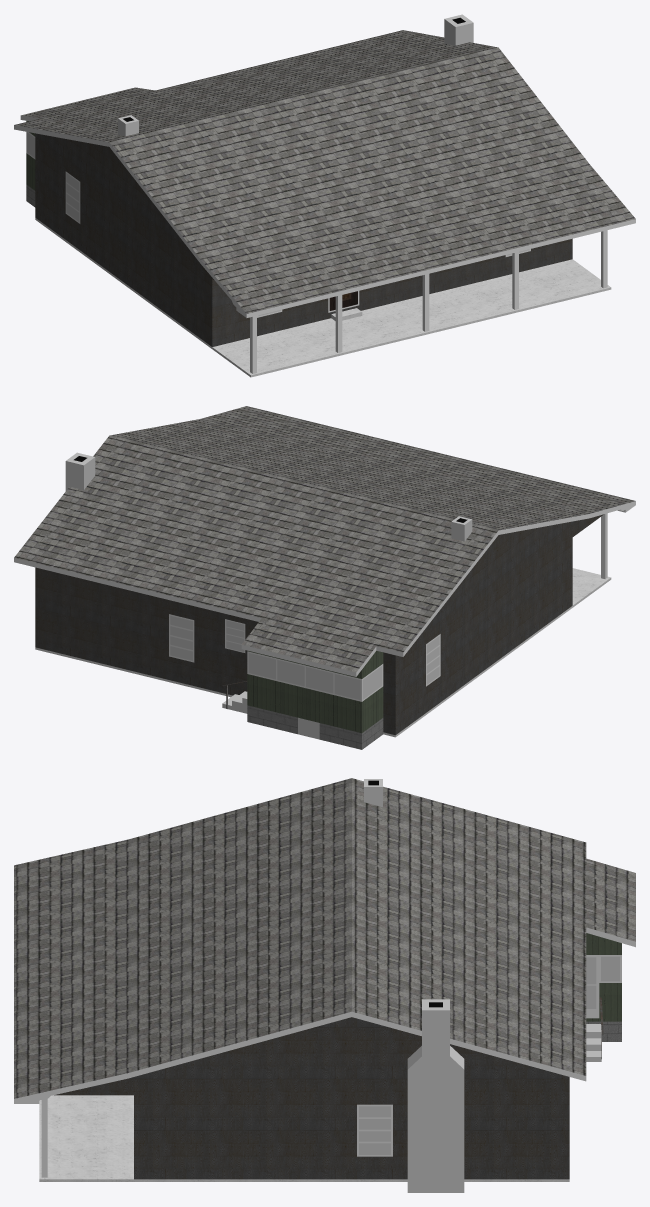
3 views of the same model, one above another, from view 1: azimuth 30°, elevation 25°; view 2: azimuth 150°, elevation 25°; view 3: azimuth 270°, elevation 25° (orthographic). The views are drawn at different scales.
Visible parts, largest first — view 1: SketchUp (×5); view 2: SketchUp (×15); view 3: SketchUp (×9).
Part boxes in pixels (<box>): SketchUp (×5): <box>14,14,635,377</box>; SketchUp (×15): <box>14,406,635,749</box>; SketchUp (×9): <box>14,778,635,1192</box>.
Size of the model in its own units: 580 by 646 by 219.
